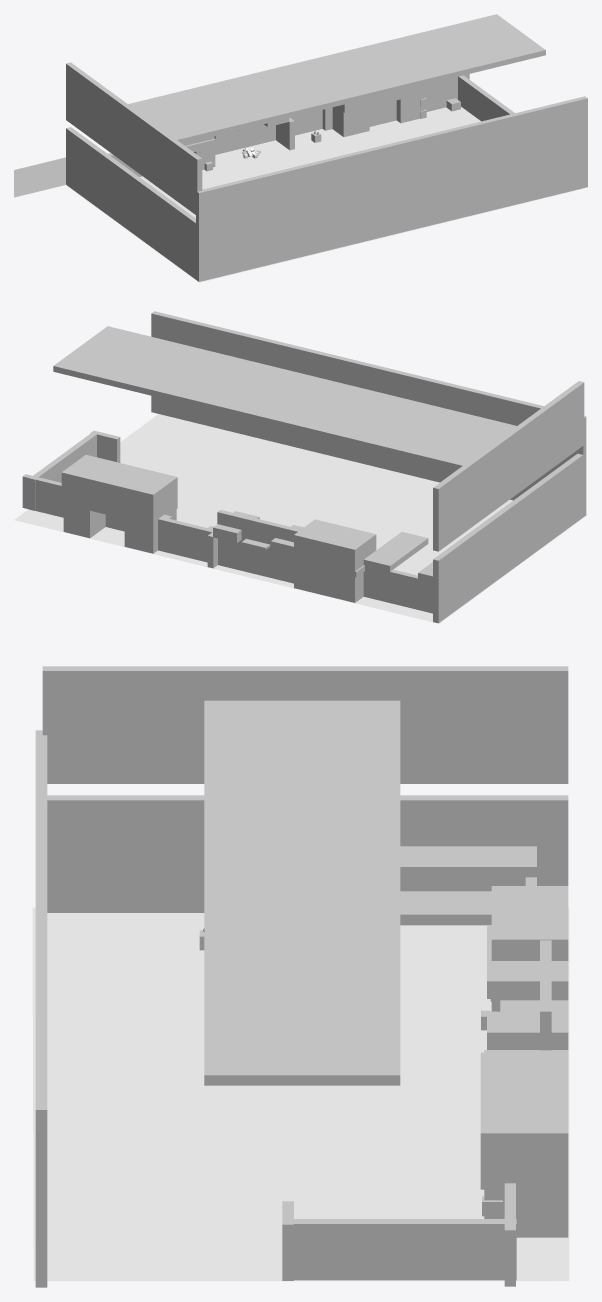
The model's file is Room2.gltf.
The picture shows the model from 3 angles, top to bottom: view 1: azimuth 30°, elevation 25°; view 2: azimuth 150°, elevation 25°; view 3: azimuth 270°, elevation 25°; orthographic projection. The views are drawn at different scales.
Parts seen in each view (by area): view 1: Cube.13, Cube.14, Cube.10, Cube.1, Floor, Cube.4 (×2), Cube.5 (×2), Walls_inside.1, Cube.6, Cube.3 (×2), Cube.2, Cube.12 (+1 smaller); view 2: Floor, Cube.14, Cube.13, Cube.1, Cube.10, Cube.5 (×2), Cube, Cube.4 (×2), Cube.2 (×2), Cube.12 (×2), Cube.6, Cube.7 (+1 smaller); view 3: Floor, Cube.14, Cube.10, Cube.1, Cube.5 (×2), Cube.6, Cube.13, Cube, Cube.11, Cube.4 (×2), Cube.7 (×2), Cube.12 (+1 smaller).
Boxes of the visible parts, x1,y1,x2,y2 form: Cube.13: [196, 96, 587, 281]; Cube.14: [108, 14, 545, 149]; Cube.10: [66, 62, 202, 214]; Cube.1: [66, 127, 195, 279]; Floor: [65, 107, 581, 282]; Cube.4 (×2): [215, 93, 424, 154]; Cube.5 (×2): [336, 74, 469, 112]; Walls_inside.1: [14, 157, 65, 197]; Cube.6: [458, 75, 514, 121]; Cube.3 (×2): [276, 100, 396, 150]; Cube.2: [332, 106, 369, 136]; Cube.12: [291, 110, 322, 135]; Floor: [14, 414, 587, 623]; Cube.14: [53, 326, 539, 476]; Cube.13: [151, 311, 586, 516]; Cube.1: [433, 453, 583, 623]; Cube.10: [433, 381, 584, 551]; Cube.5 (×2): [22, 454, 177, 525]; Cube: [294, 519, 376, 602]; Cube.4 (×2): [63, 504, 300, 583]; Cube.2 (×2): [124, 509, 450, 616]; Cube.12 (×2): [158, 517, 428, 571]; Cube.6: [29, 433, 96, 510]; Cube.7: [91, 430, 120, 462]; Floor: [32, 907, 569, 1281]; Cube.14: [204, 700, 400, 1085]; Cube.10: [42, 666, 568, 783]; Cube.1: [47, 795, 568, 912]; Cube.5 (×2): [480, 1052, 568, 1286]; Cube.6: [291, 1219, 516, 1280]; Cube.13: [35, 730, 47, 1287]; Cube: [491, 886, 568, 1011]; Cube.11: [400, 846, 536, 877]; Cube.4 (×2): [484, 940, 568, 1237]; Cube.7 (×2): [282, 960, 568, 1280]; Cube.12: [400, 891, 491, 925].
Size of the model in its own units: 7034 by 1850 by 3710.
Materials: 22 (1 with a texture image).
